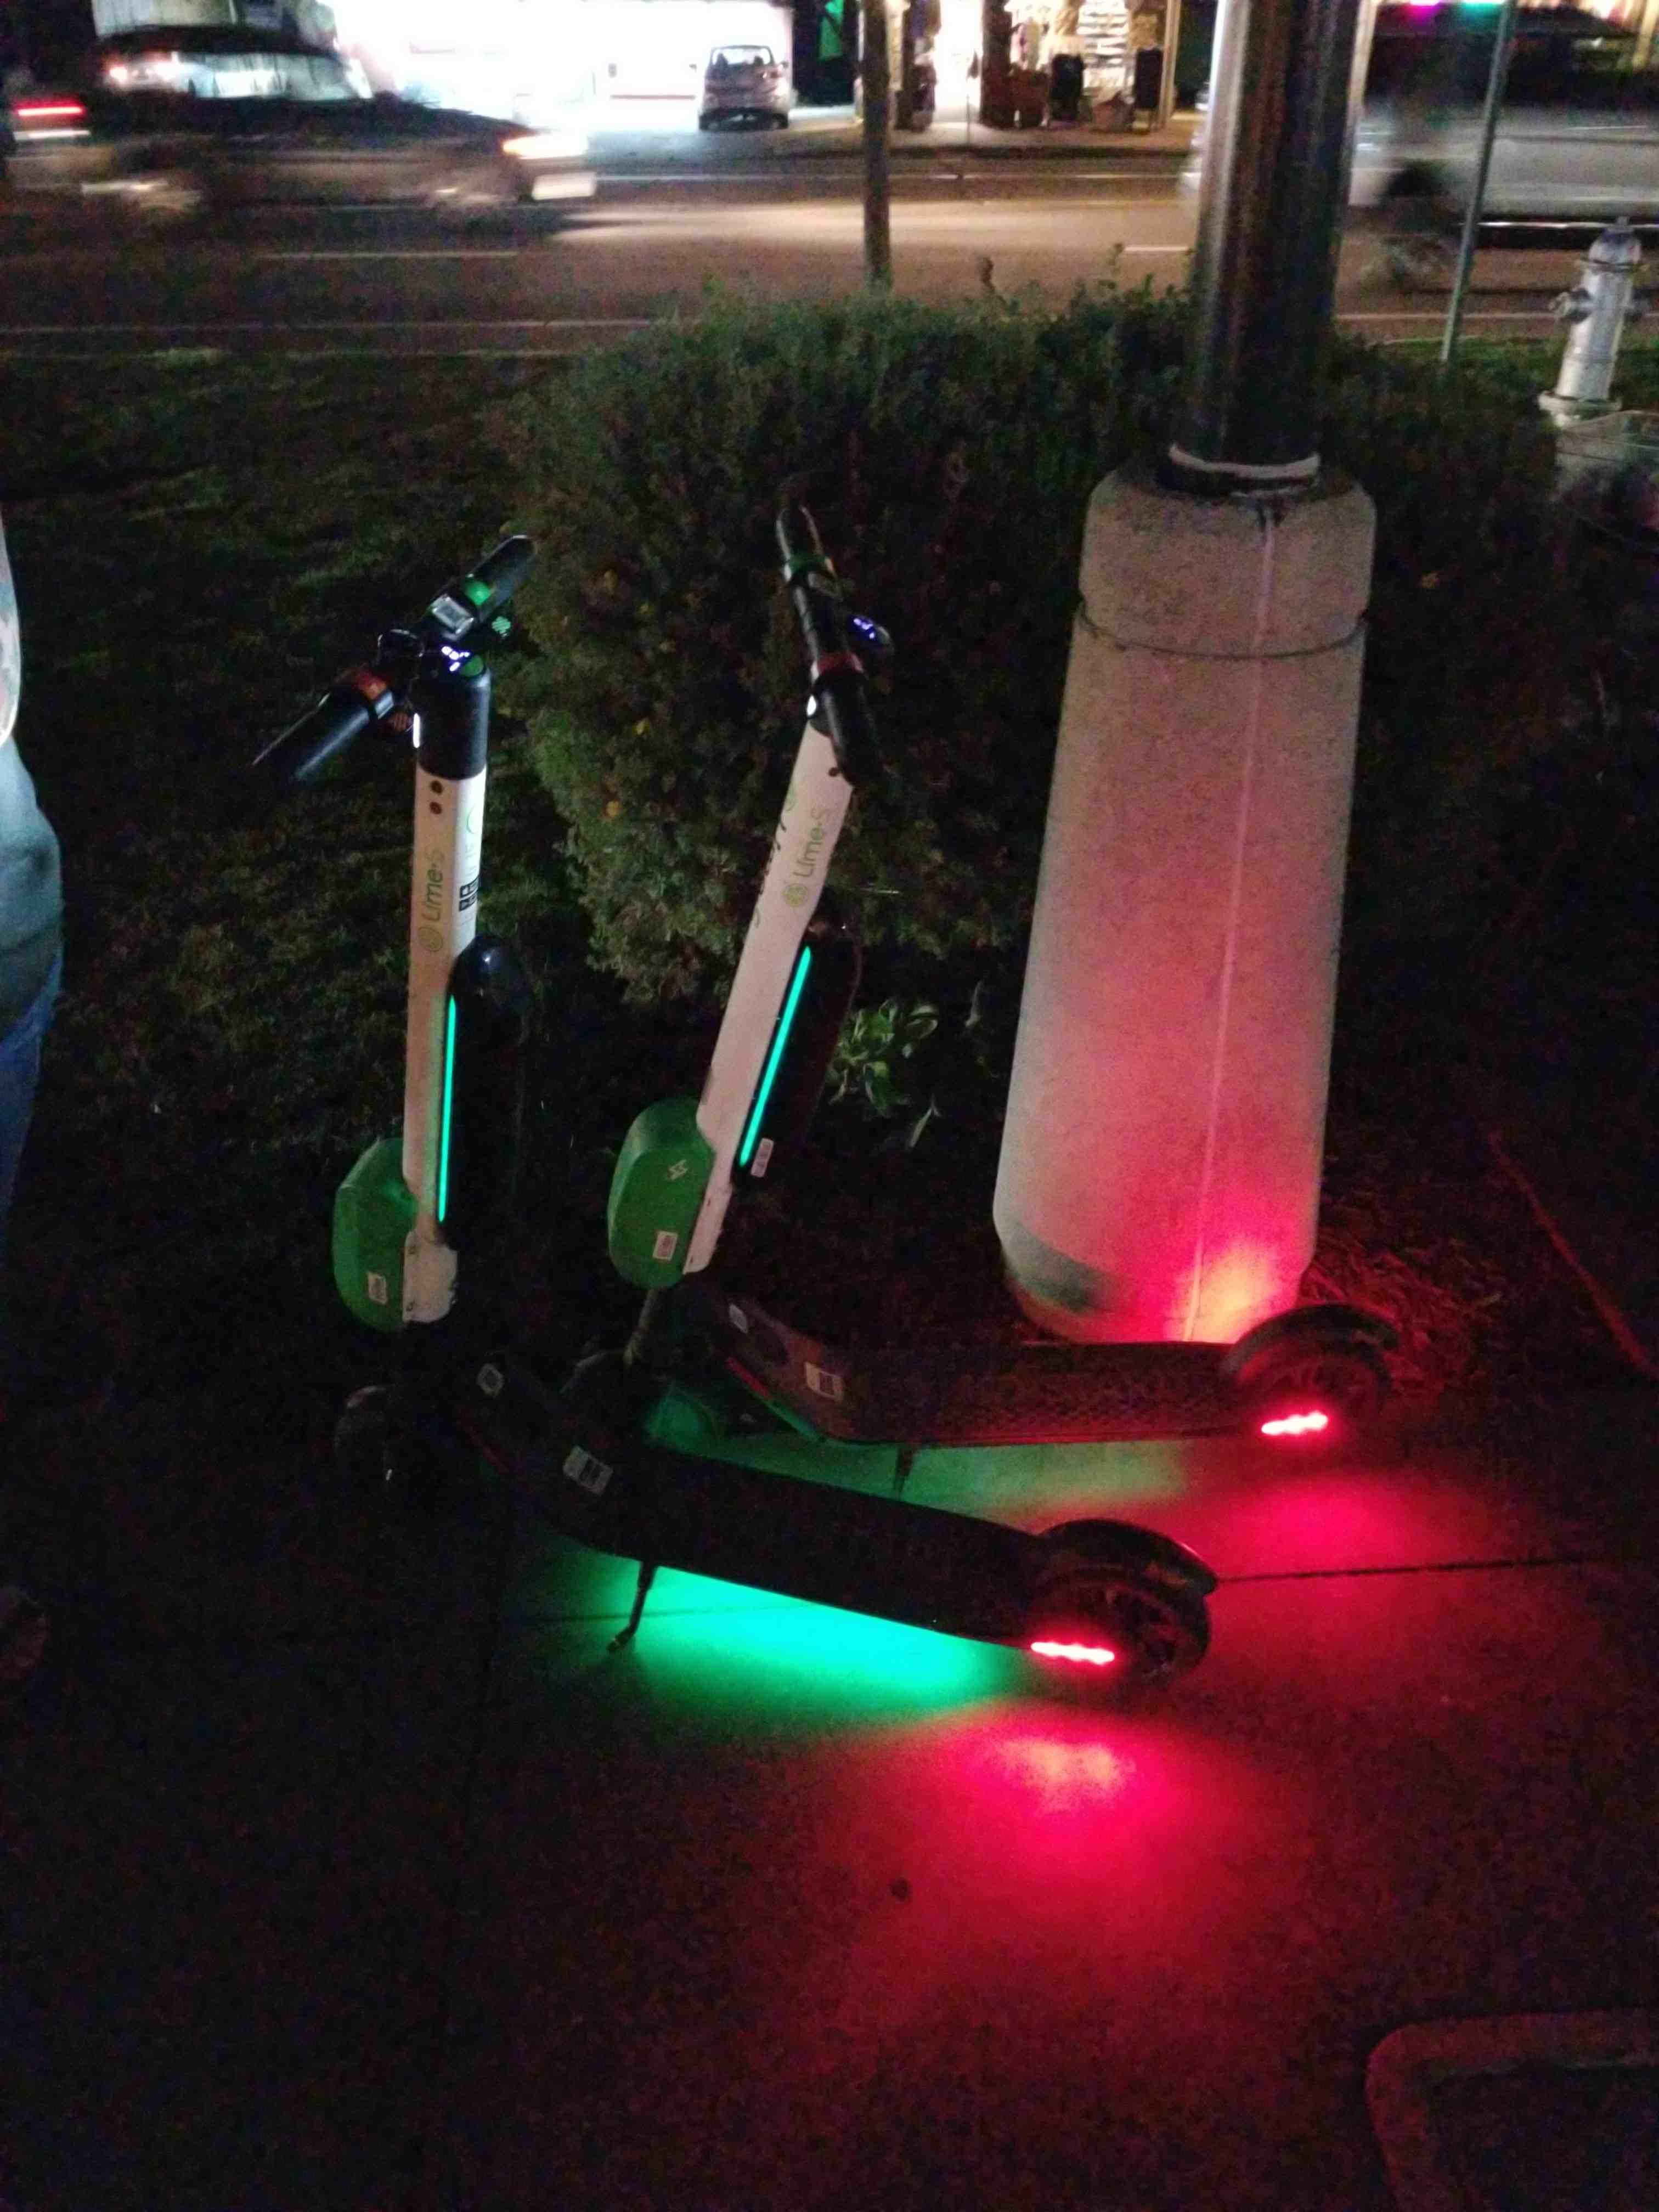scooter: (197, 481, 1310, 1735)
